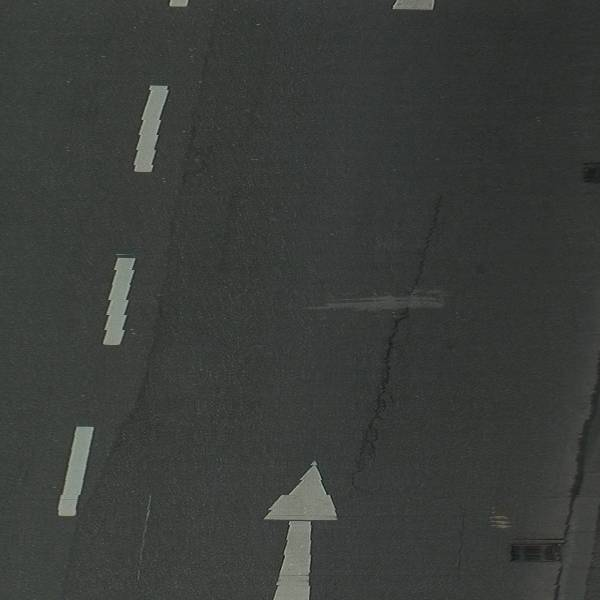road_damage: (352, 196, 440, 483)
